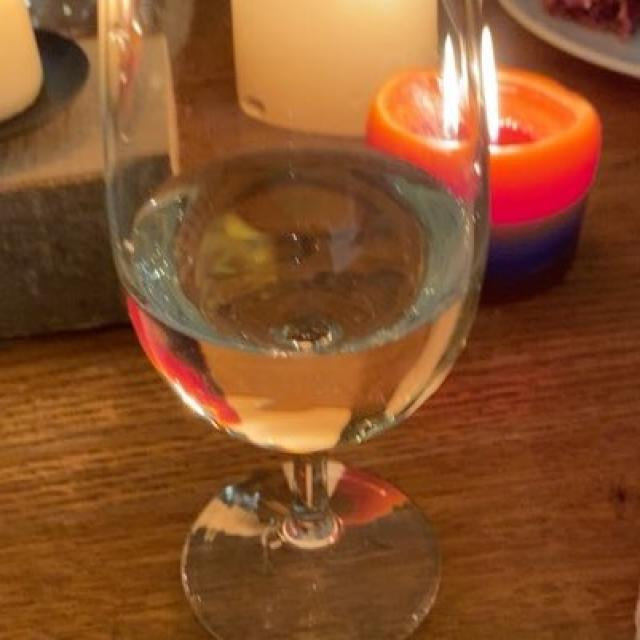wine-white: (127, 137, 470, 452)
